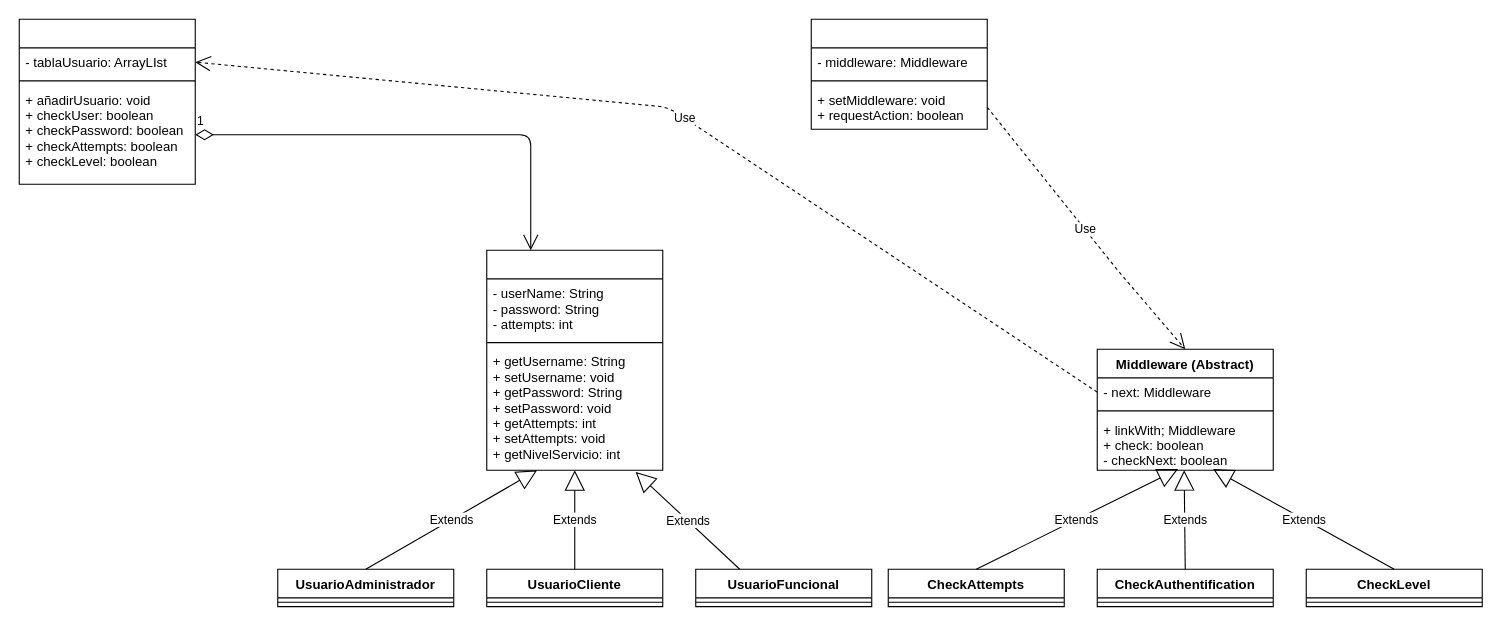
Some shapes in this 1502 by 626 pixel diagram are drawn without their labels. Here are the shapes that lost their labels. From the top down, the box of each, then its label:
(810, 18, 987, 129): Server
(18, 18, 195, 184): AlmacenUsuarios
(486, 249, 663, 470): Usuario (Abstract)
